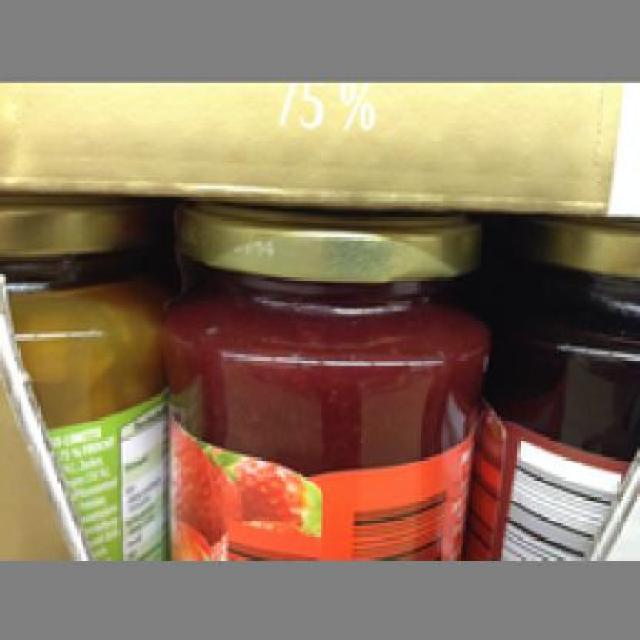Jam: (159, 200, 492, 557), (0, 192, 166, 554), (468, 212, 634, 554)
